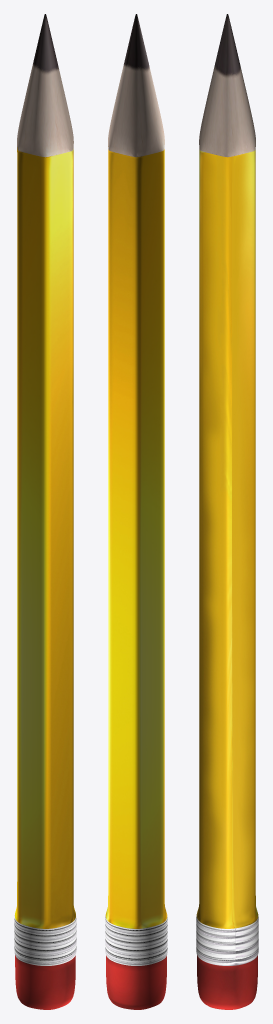
The model's file is 10303_pencil_V1_iterations-2.obj.
The picture shows the model from 3 angles, left to right: view 1: azimuth 90°, elevation 25°; view 2: azimuth 150°, elevation 25°; view 3: azimuth 330°, elevation 25°; orthographic projection.
Visible parts, largest first — view 1: 10303_pencil_V1; view 2: 10303_pencil_V1; view 3: 10303_pencil_V1.
Boxes of the visible parts, <box> form: 10303_pencil_V1: <box>14,14,76,1009</box>; 10303_pencil_V1: <box>105,14,167,1009</box>; 10303_pencil_V1: <box>196,14,258,1009</box>.
Size of the model in its own units: 0.586 by 10.02 by 0.5729.
